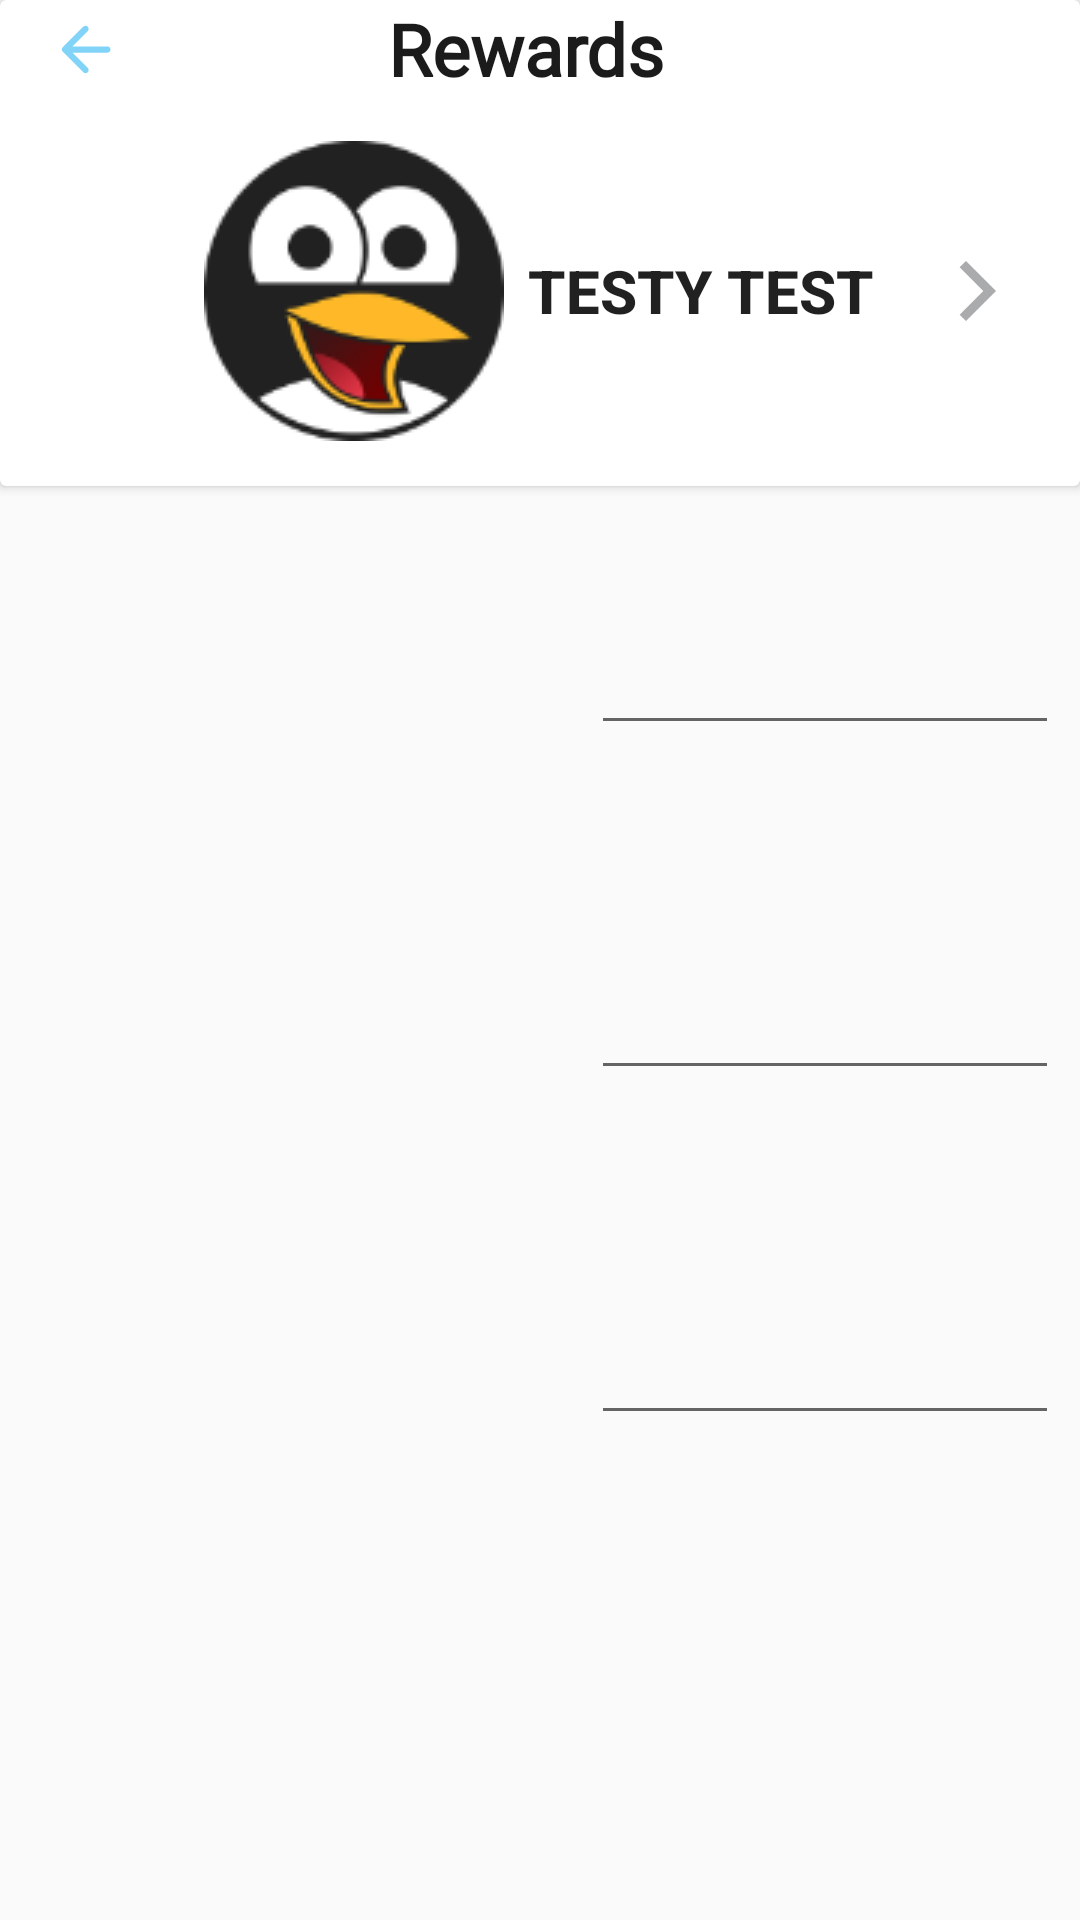

Screen size 1080 × 1920. Icon name, then its center in pixels as [x,y]:
backarrowicon: [86,49]
